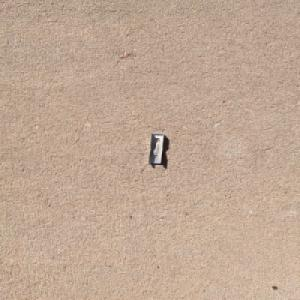ClampPart: (146, 132, 166, 164)
